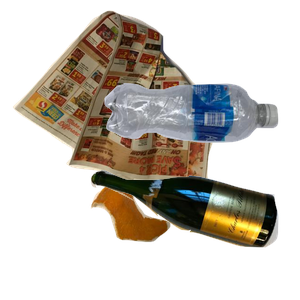glass: (88, 167, 300, 300)
paper: (10, 10, 217, 189)
plastic: (102, 81, 300, 216)
trash: (88, 177, 251, 300)
